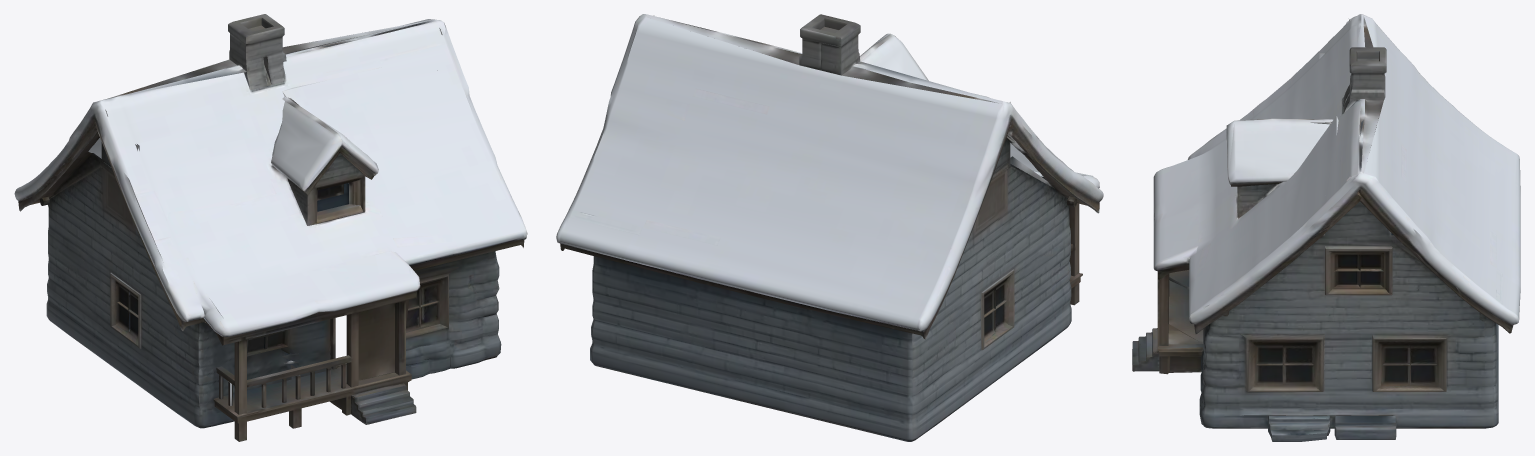
The model's file is sf-chalet.glb.
3 renders of one model, left to right at view 1: azimuth 30°, elevation 25°; view 2: azimuth 150°, elevation 25°; view 3: azimuth 270°, elevation 25°, orthographic. The views are drawn at different scales.
Parts seen in each view (by area): view 1: material; view 2: material; view 3: material.
Part boxes in pixels (bbox=[...]): material: bbox=[14, 14, 527, 441]; material: bbox=[556, 14, 1103, 441]; material: bbox=[1132, 14, 1520, 441].
Bounding box in the file's own units: 7.54 × 6.33 × 7.46.
Materials: 1 (1 with a texture image).
